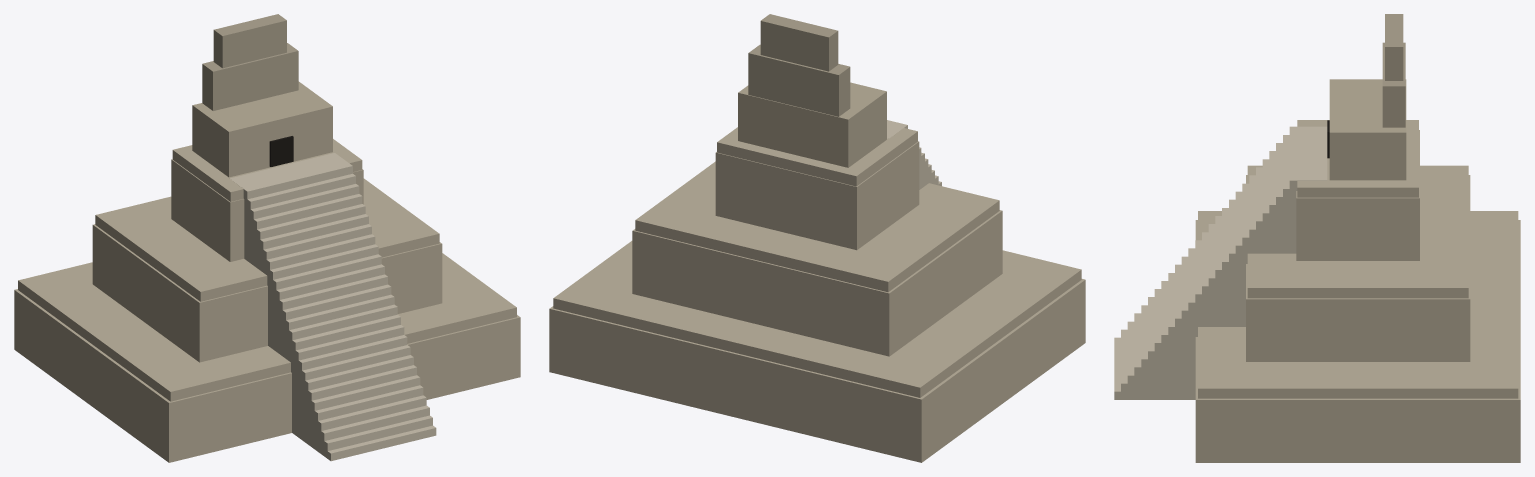
File: meso-tikal-t2-ruin.glb
The picture shows the model from 3 angles, left to right: view 1: azimuth 30°, elevation 25°; view 2: azimuth 150°, elevation 25°; view 3: azimuth 270°, elevation 25°; orthographic projection. The views are drawn at different scales.
Parts seen in each view (by area): view 1: meso-body, meso-stair, meso-shrine, meso-comb, meso-door; view 2: meso-body, meso-shrine, meso-comb, meso-stair; view 3: meso-body, meso-stair, meso-shrine, meso-comb.
Part boxes in pixels (box(x1,y1,x2,y2)): meso-body: box(14, 139, 520, 462); meso-stair: box(229, 153, 436, 461); meso-shrine: box(192, 81, 332, 177); meso-comb: box(202, 14, 298, 110); meso-door: box(269, 136, 293, 166); meso-body: box(549, 127, 1085, 462); meso-shrine: box(738, 82, 886, 167); meso-comb: box(748, 14, 850, 116); meso-stair: box(887, 120, 941, 189); meso-body: box(1195, 120, 1520, 462); meso-stair: box(1114, 126, 1327, 399); meso-shrine: box(1329, 79, 1406, 180); meso-comb: box(1382, 14, 1405, 127).
Bounding box in the file's own units: 42.9 × 38 × 40.9.
